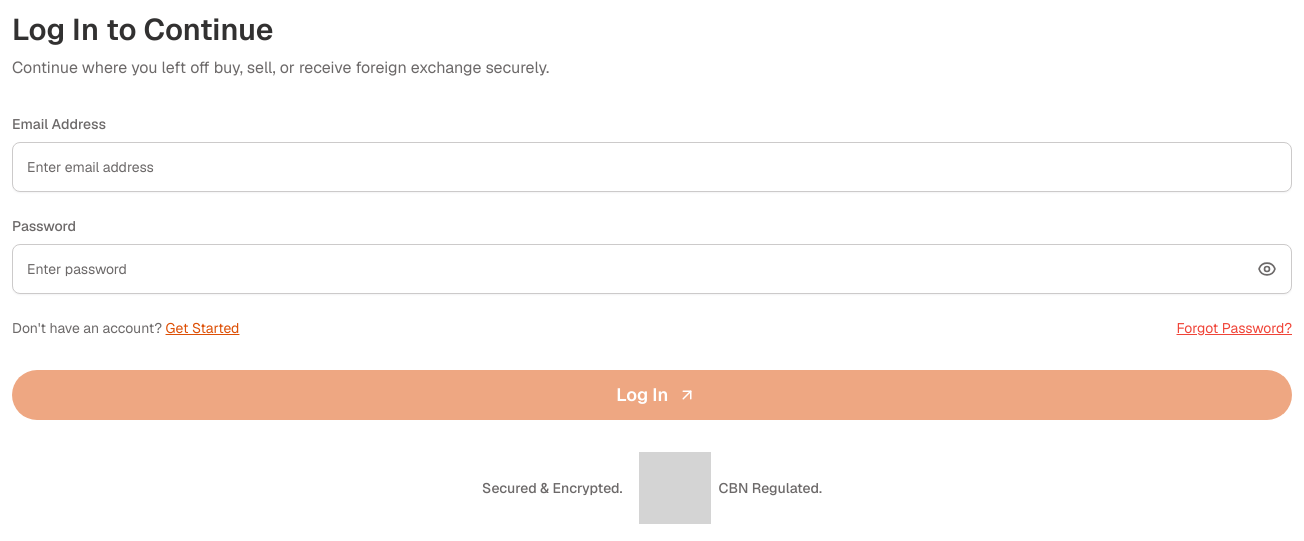
Login page › enables Log In when email and password are filled
The image size is (1304, 541).
Type "a@b.com" into the field with placeholder "Enter email address". click: {"x": 652, "y": 167}
box: x1=12 y1=142 x2=1292 y2=192
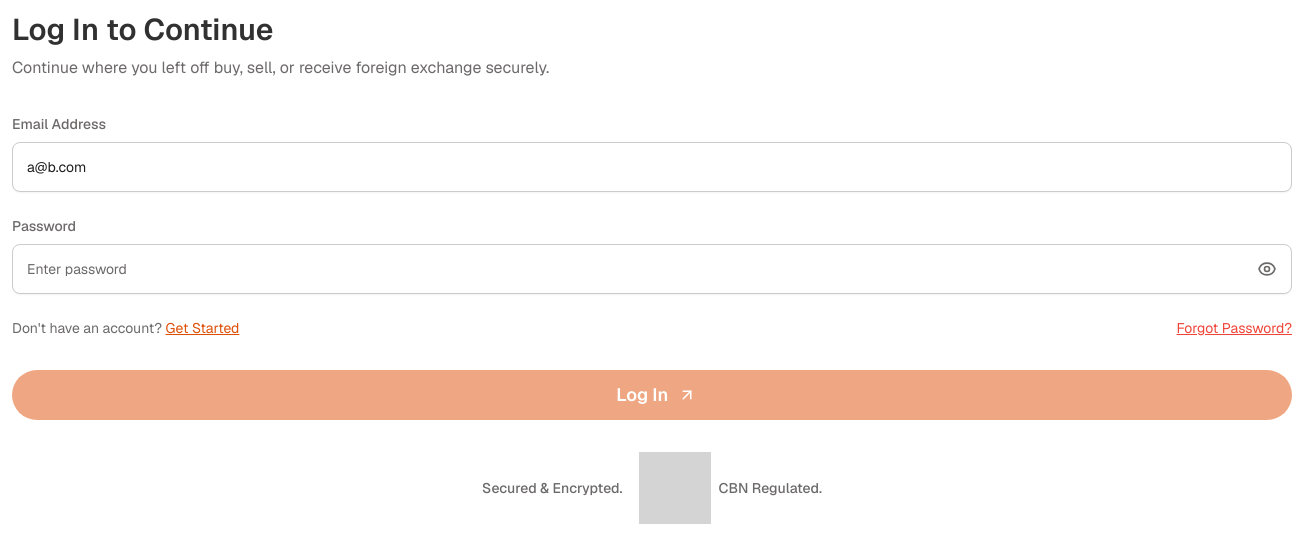
Type "pass" into the password field with placeholder "Enter password". click: {"x": 652, "y": 269}
box: x1=12 y1=244 x2=1292 y2=294
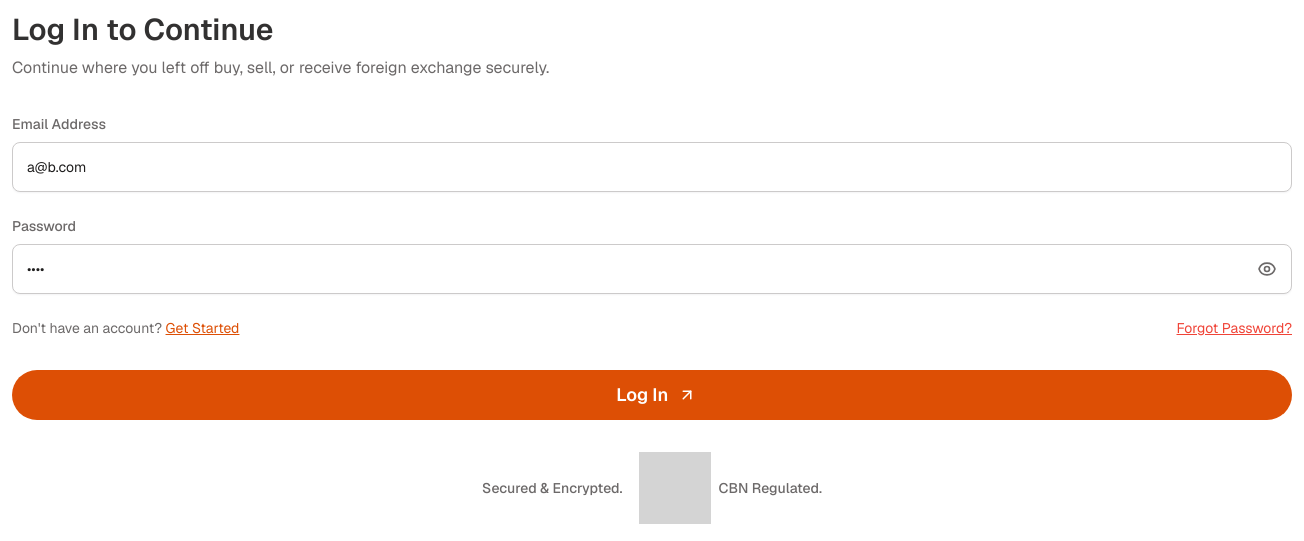
Expected: the button "Log In" is enabled, x1=12 y1=370 x2=1292 y2=420
